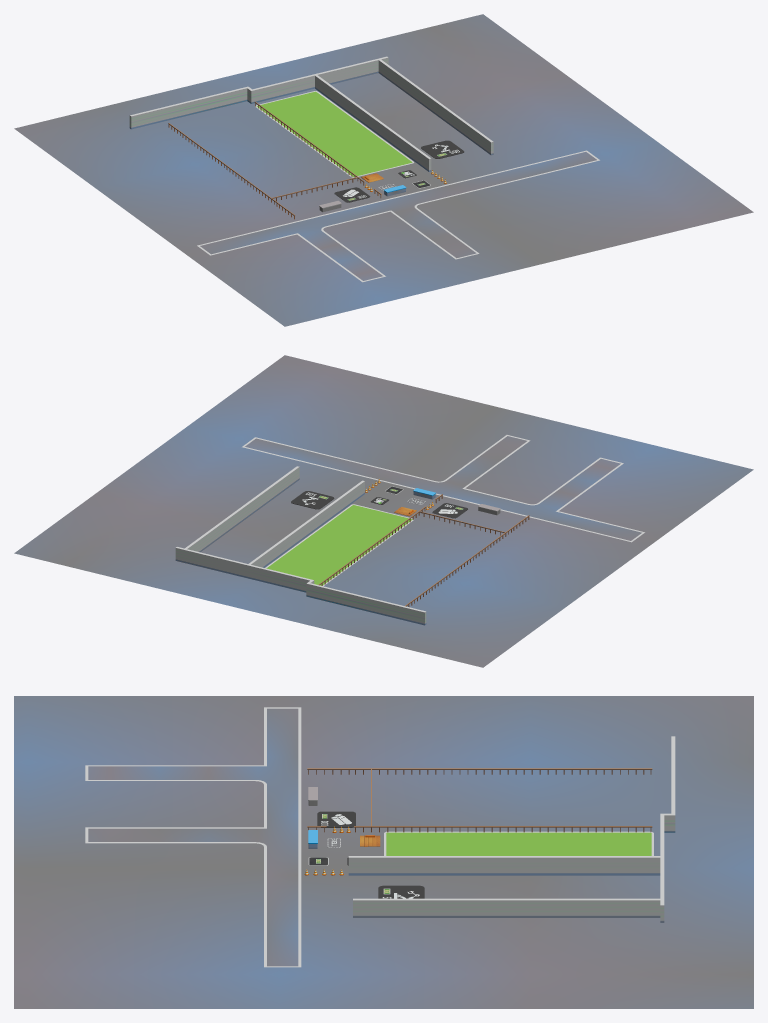
File: shoujimucai.FBX
3 views of the same model, one above another, from view 1: azimuth 30°, elevation 25°; view 2: azimuth 150°, elevation 25°; view 3: azimuth 270°, elevation 25° (orthographic). The views are drawn at different scales.
Parts seen in each view (by area): view 1: jijian_dimian; view 2: jijian_dimian; view 3: jijian_dimian, tubiao_01_jixie, tubiao_04_mucai.
Part boxes in pixels (x1,y1,x2,y2): jijian_dimian: (14, 14, 753, 326); jijian_dimian: (14, 355, 753, 667); jijian_dimian: (14, 696, 753, 1008); tubiao_01_jixie: (378, 885, 424, 898); tubiao_04_mucai: (317, 811, 355, 827).
Bounding box in the file's own units: 755 × 22.07 × 755.
